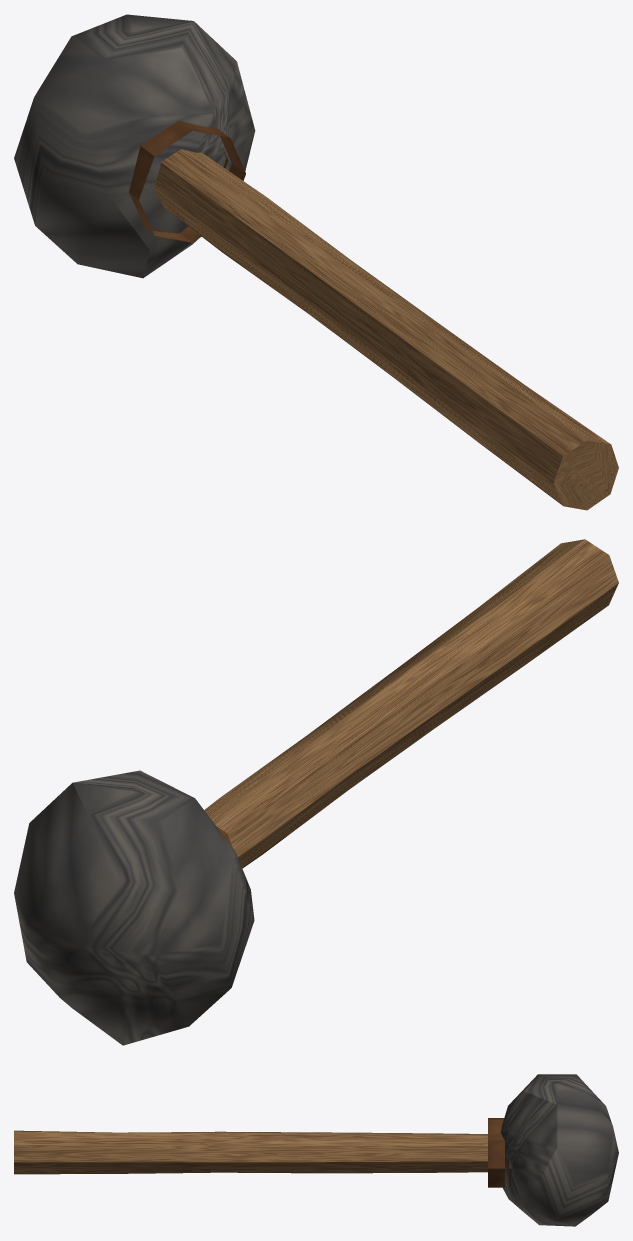
The model's file is TOOL_StoneHammer.fbx.
The picture shows the model from 3 angles, top to bottom: view 1: azimuth 30°, elevation 25°; view 2: azimuth 150°, elevation 25°; view 3: azimuth 270°, elevation 25°; orthographic projection. The views are drawn at different scales.
Visible parts, largest first — view 1: TOOL_StoneHammer; view 2: TOOL_StoneHammer; view 3: TOOL_StoneHammer.
Boxes of the visible parts, x1,y1,x2,y2 form: TOOL_StoneHammer: (14,14,618,510); TOOL_StoneHammer: (14,539,618,1045); TOOL_StoneHammer: (14,1074,618,1226).
Size of the model in its own units: 0.1022 by 0.1056 by 0.4232.
